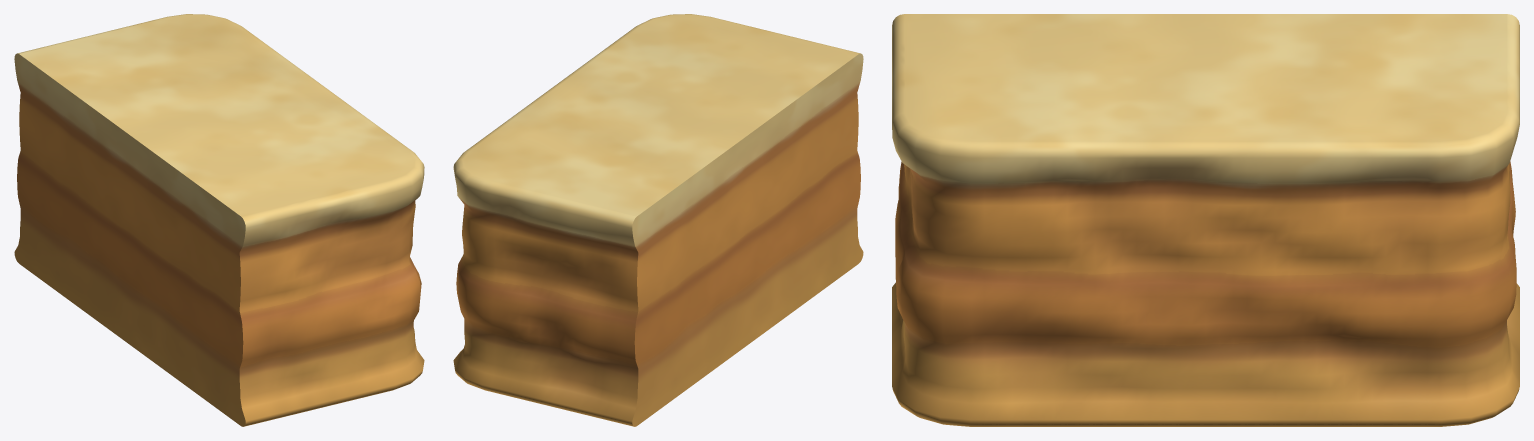
Rendered from SD_G04_Ground_OuterCorner_R.fbx.
3 renders of one model, left to right at view 1: azimuth 30°, elevation 25°; view 2: azimuth 150°, elevation 25°; view 3: azimuth 270°, elevation 25°, orthographic. The views are drawn at different scales.
Visible parts, largest first — view 1: SD_G04_Ground_OuterCorner_R; view 2: SD_G04_Ground_OuterCorner_R; view 3: SD_G04_Ground_OuterCorner_R.
Boxes of the visible parts, box(x1,y1,x2,y2) form: SD_G04_Ground_OuterCorner_R: box(14, 14, 424, 426); SD_G04_Ground_OuterCorner_R: box(453, 14, 863, 426); SD_G04_Ground_OuterCorner_R: box(892, 14, 1519, 426).
Bounding box in the file's own units: 2 × 2 × 4.
